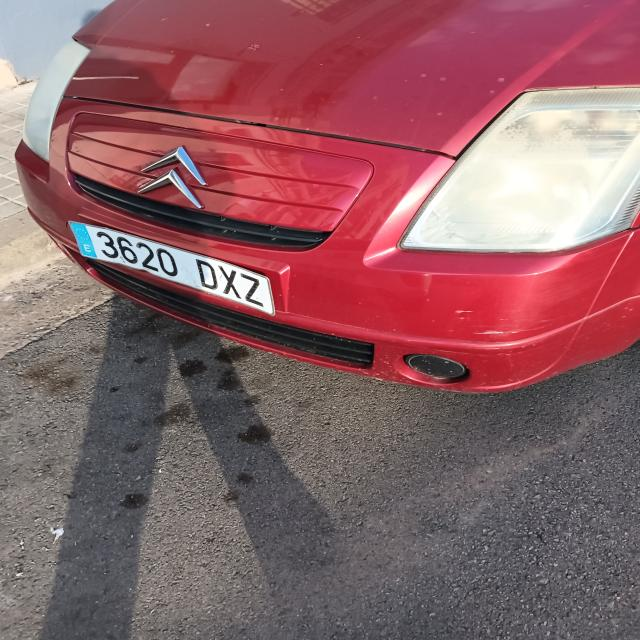license_plate-34Td: (71, 222, 274, 315)
